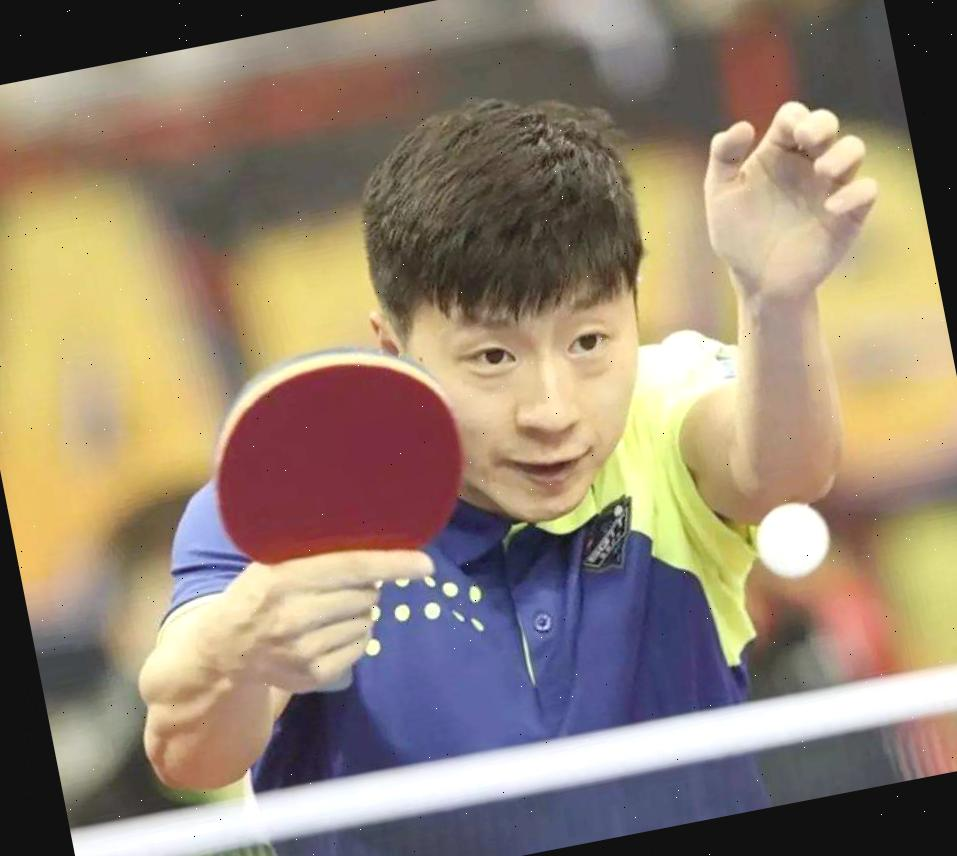ball: (740, 490, 842, 590)
